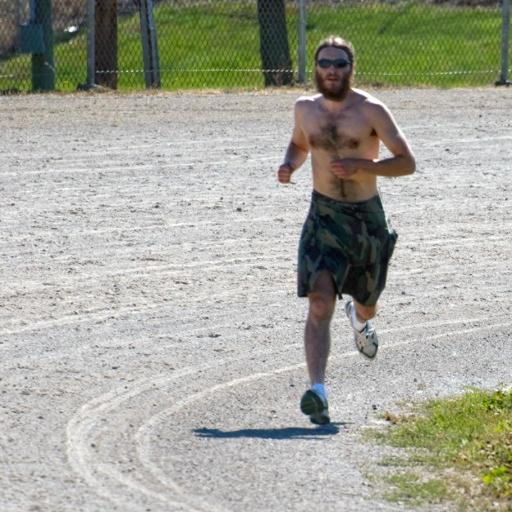Person: (265, 13, 425, 453)
boots: (334, 296, 410, 369), (294, 370, 350, 448)
goggles: (306, 48, 359, 80)
no_gloves: (328, 150, 371, 186), (265, 159, 309, 188)
no_helmet: (300, 23, 366, 85)
none: (282, 90, 420, 225)
